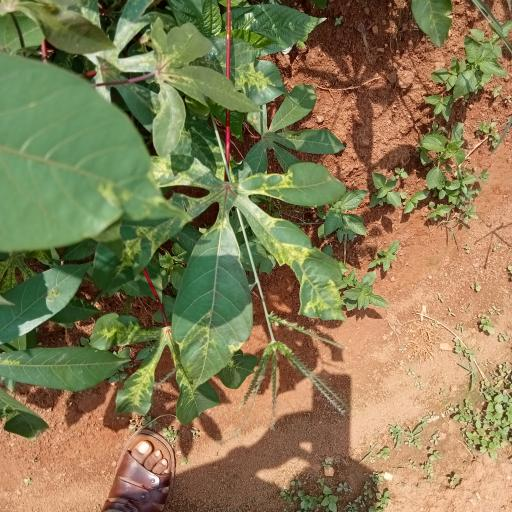Cassava_Healthy: (86, 163, 345, 381)
